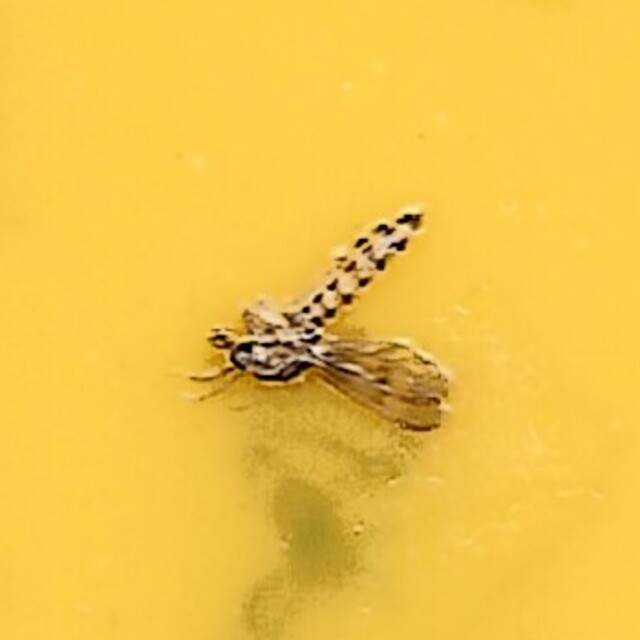Nematocera: (183, 201, 457, 439)
